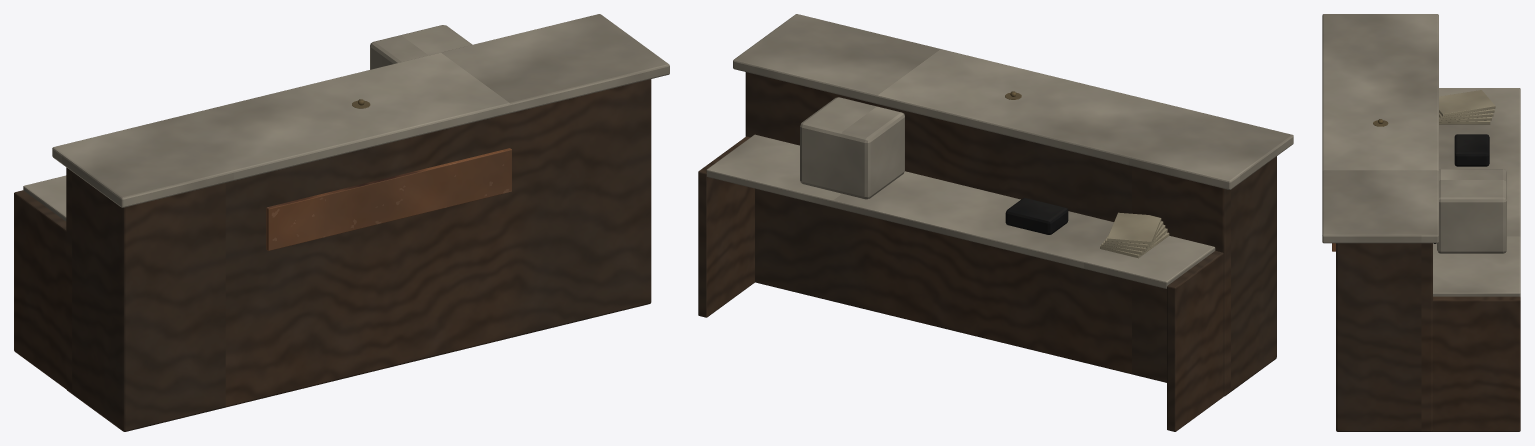
The model's file is H07_reception_desk.glb.
3 renders of one model, left to right at view 1: azimuth 30°, elevation 25°; view 2: azimuth 150°, elevation 25°; view 3: azimuth 270°, elevation 25°, orthographic. The views are drawn at different scales.
Parts seen in each view (by area): view 1: H07_reception_desk; view 2: H07_reception_desk; view 3: H07_reception_desk.
Boxes of the visible parts, box(x1,y1,x2,y2) form: H07_reception_desk: box(14, 14, 669, 431); H07_reception_desk: box(698, 14, 1293, 431); H07_reception_desk: box(1322, 14, 1520, 431).
Size of the model in its own units: 3 by 1.31 by 1.13.
Materials: 6 (6 with a texture image).
